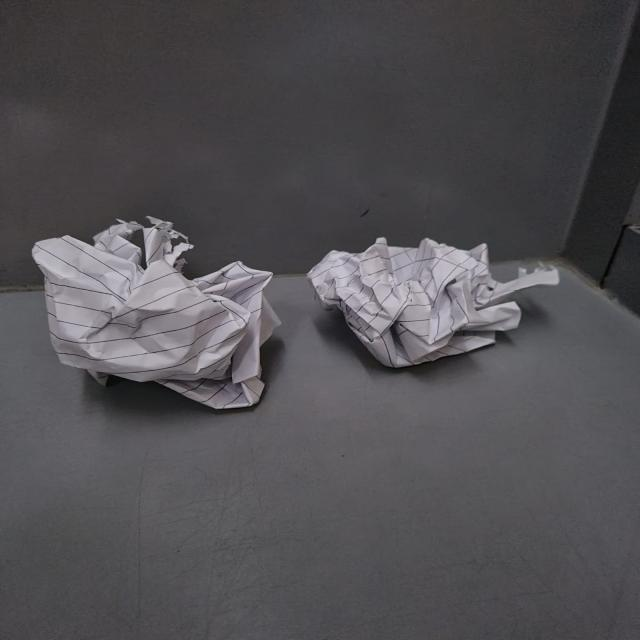Paper: (36, 218, 276, 410), (312, 236, 558, 367)
